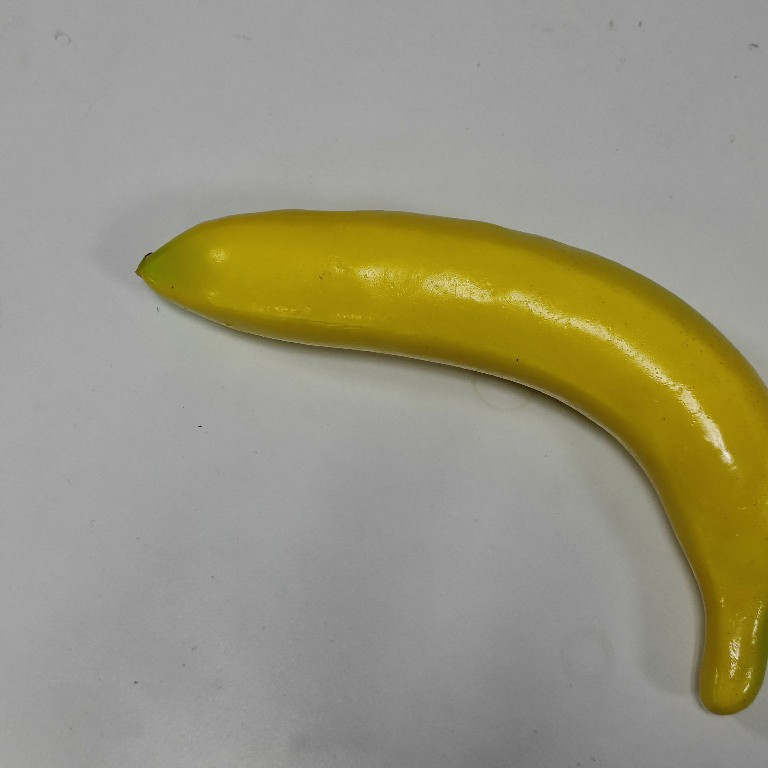fruit_banana: (129, 203, 768, 718)
